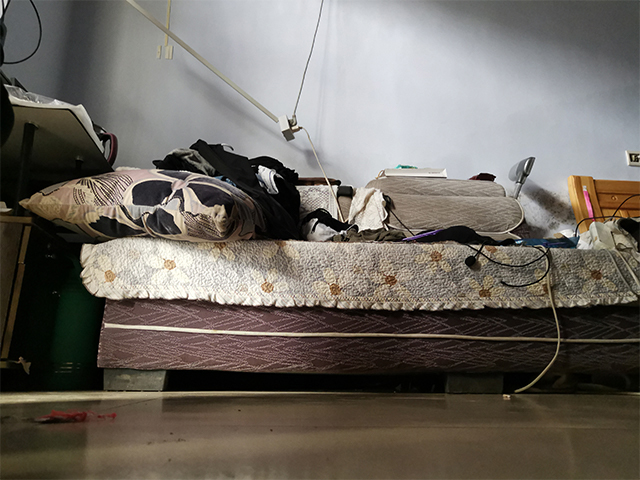sofa: (80, 174, 640, 395)
table: (1, 102, 116, 395)
wire: (479, 238, 570, 400), (261, 1, 333, 182)
